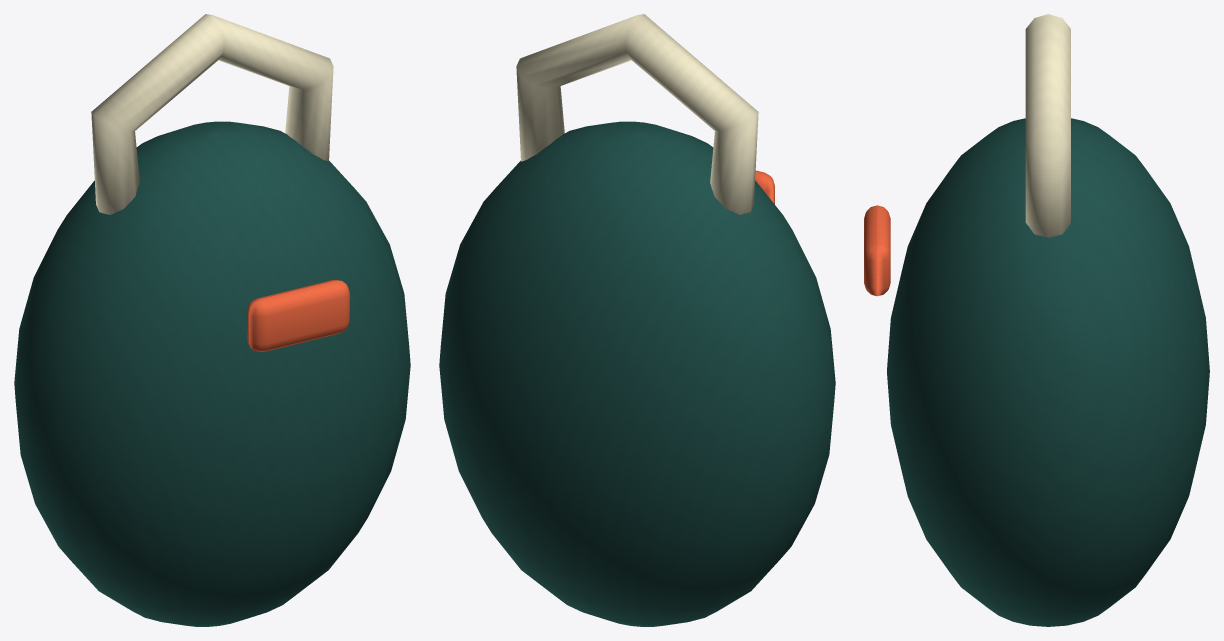
Rendered from carry-bag.glb.
3 views of the same model, side by side, from view 1: azimuth 30°, elevation 25°; view 2: azimuth 150°, elevation 25°; view 3: azimuth 270°, elevation 25° (orthographic).
Visible parts, largest first — view 1: Sealed carry bag, Bag loop, Bag seal; view 2: Sealed carry bag, Bag loop; view 3: Sealed carry bag, Bag loop, Bag seal.
Part boxes in pixels (bbox=[...]): Sealed carry bag: bbox=[14, 121, 410, 626]; Bag loop: bbox=[91, 14, 333, 214]; Bag seal: bbox=[247, 280, 349, 351]; Sealed carry bag: bbox=[439, 121, 835, 626]; Bag loop: bbox=[516, 14, 758, 214]; Sealed carry bag: bbox=[887, 118, 1209, 626]; Bag loop: bbox=[1025, 14, 1070, 237]; Bag seal: bbox=[864, 205, 890, 296].
Size of the model in its own units: 0.44 by 0.695 by 0.364.
Materials: 2 (2 with a texture image).
